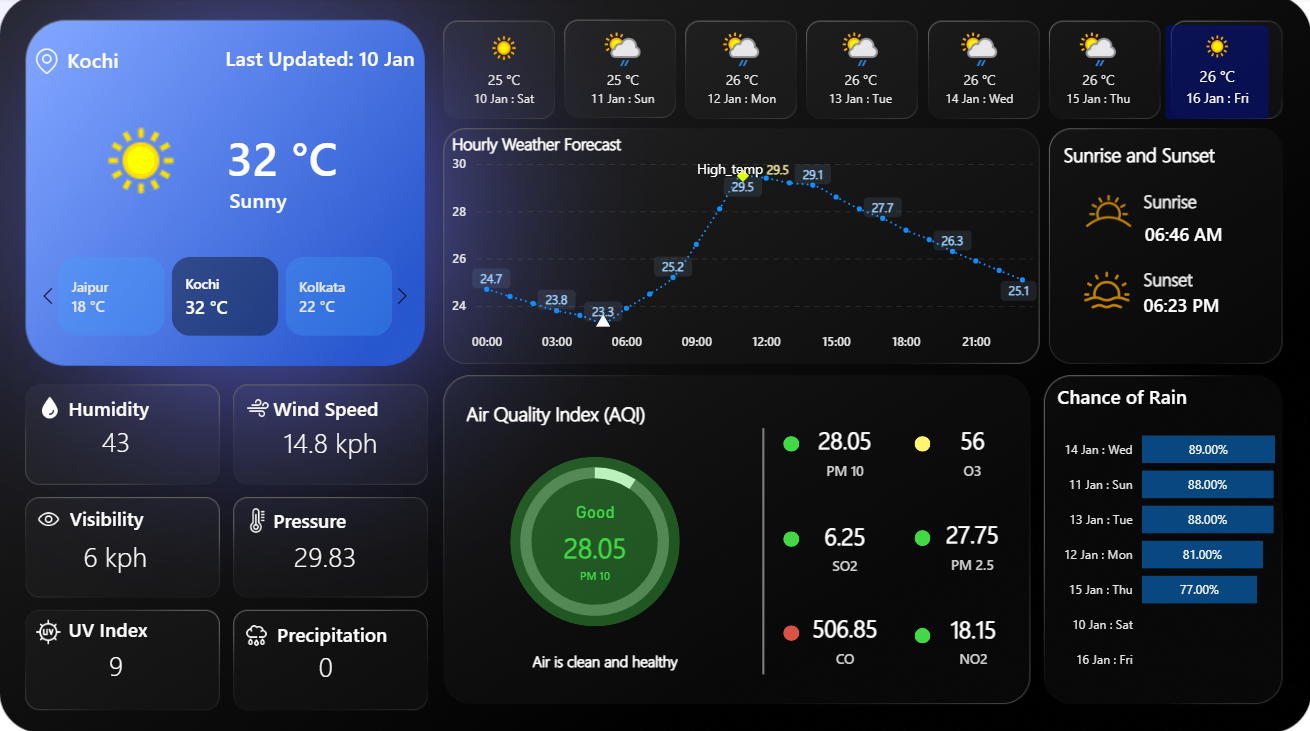

This screenshot's page, from the dashboard's own definition file:
{"tool":"powerbi","page":{"name":"Dashboard","canvas":[1280,720],"ordinal":0},"visuals":[{"type":"advancedSlicerVisual","fields":{"Values":["Locations.location.name"]},"box":[32.7,248.7,376.8,87.9],"z":0},{"type":"shape","box":[225,176.2,176.2,43.8],"z":1000},{"type":"shape","box":[222.5,100,187.5,110],"z":2000},{"type":"shape","box":[66.8,34.9,151.8,51.6],"z":3000},{"type":"image","box":[32.9,50,28,25],"z":4000},{"type":"shape","box":[221,34,219.8,50],"z":5000},{"type":"image","box":[30.8,496.9,37,24],"z":6000},{"type":"shape","box":[69.2,496.2,96.2,25.4],"z":7000},{"type":"shape","box":[67.7,388.5,96.9,25.4],"z":8000},{"type":"shape","box":[67.7,604.6,96.9,25.4],"z":9000},{"type":"shape","box":[271.5,609.2,111.5,25.4],"z":10000},{"type":"shape","box":[267.7,497.7,96.2,25.4],"z":11000},{"type":"shape","box":[267.7,387.7,121.5,25.4],"z":12000},{"type":"image","box":[34.6,389.2,29.2,22.3],"z":13000},{"type":"image","box":[237.7,389.2,30,23],"z":14000},{"type":"image","box":[236.2,498.1,32,24],"z":15000},{"type":"image","box":[31.5,606.2,33.1,25.4],"z":16000},{"type":"image","box":[235.4,610,33.1,24.6],"z":17000},{"type":"card","fields":{"Values":["Sum(Current.current.humidity)"]},"box":[32.5,405,163.8,60],"z":18000},{"type":"card","fields":{"Values":["_Measure.Current_wind_speed_kph"]},"box":[241.2,401.2,165,70],"z":19000},{"type":"card","fields":{"Values":["_Measure.Current_visibility_kph"]},"box":[31.5,513.1,164.6,70],"z":20000},{"type":"card","fields":{"Values":["Sum(Current.current.pressure_in)"]},"box":[236.2,512.5,165,70],"z":21000},{"type":"card","fields":{"Values":["Sum(Current.current.uv)"]},"box":[33.1,618.5,163.8,70],"z":22000},{"type":"card","fields":{"Values":["Sum(Current.current.precip_in)"]},"box":[237.5,618.8,163.7,70],"z":23000},{"type":"advancedSlicerVisual","fields":{"Values":["Forecast_Day.Forecast_day_name"],"Label":["Min(Forecast_Day.forecast.forecastday.day.condition.icon)"]},"box":[437.1,22.6,814,103],"z":24000},{"type":"lineChart","title":"Hourly Weather Forecast","fields":{"Category":["Forecast_Hour.forecast.forecastday.hour.time"],"Y":["_Measure.Forecast_hourly_avg_temp","_Measure.Forecast_hourly_max_temp","_Measure.Forecast_hourly_min_temp"]},"box":[437.1,131.4,580.7,223.6],"z":25000},{"type":"shape","box":[1117.1,165.7,162.9,65.7],"z":26000},{"type":"shape","box":[1117.1,242.9,162.9,65.7],"z":27000},{"type":"shape","box":[1039.3,127.9,184.3,49.3],"z":28000},{"type":"image","box":[1050,264.3,61.4,44.3],"z":29000},{"type":"image","box":[1047.1,180,70,58.6],"z":30000},{"type":"hundredPercentStackedBarChart","title":"Chance of Rain","fields":{"Y":["Sum(Forecast_Day.forecast.forecastday.day.daily_chance_of_rain)","_Measure.Left_value_Rain"],"Category":["Forecast_Day.Forecast_day_name"]},"box":[1027.5,376.8,238.7,302.7],"z":31000},{"type":"card","fields":{"Values":["Sum(Current.current.air_quality.o3)"]},"box":[895.8,400,108.9,87.9],"z":32000},{"type":"card","fields":{"Values":["Sum(Current.current.air_quality.pm10)"]},"box":[771.1,400,108.9,87.8],"z":33000},{"type":"card","fields":{"Values":["Sum(Current.current.air_quality.pm2_5)"]},"box":[895.8,491.1,108.9,87.4],"z":34000},{"type":"card","fields":{"Values":["Sum(Current.current.air_quality.so2)"]},"box":[771.1,492.2,108.9,87.8],"z":35000},{"type":"card","fields":{"Values":["Sum(Current.current.air_quality.no2)"]},"box":[896.3,582.6,108.4,88.4],"z":36000},{"type":"card","fields":{"Values":["Sum(Current.current.air_quality.co)"]},"box":[771.1,583.3,108.9,87.8],"z":37000},{"type":"shape","box":[765.3,428.9,16,15.3],"z":38000},{"type":"shape","box":[765.3,520.9,16,15.3],"z":39000},{"type":"shape","box":[765.3,612.9,16,15.3],"z":40000},{"type":"shape","box":[893.2,615.3,15.8,15.3],"z":41000},{"type":"shape","box":[893.2,520.5,15.8,15.8],"z":42000},{"type":"shape","box":[893.7,428.4,15.8,15.3],"z":43000},{"type":"shape","box":[456,380,184,50],"z":44000},{"type":"donutChart","fields":{"Y":["Sum(Current.current.air_quality.pm10)","_Measure.Left_value_PM10"]},"box":[405.7,435.7,351.4,191.4],"z":45000},{"type":"shape","box":[697.1,421.4,97.1,240],"z":46000},{"type":"shape","box":[498.6,448.6,165.7,165.7],"z":47000},{"type":"card","fields":{"Values":["Sum(Current.current.air_quality.pm10)"]},"box":[527.1,492.9,108.6,87.1],"z":48000},{"type":"shape","box":[437.4,622.6,308.4,48.4],"z":49000},{"type":"shape","box":[1118.6,204.3,138.6,52.9],"z":50000},{"type":"shape","box":[1117.1,275.7,137.1,51.4],"z":51000},{"type":"cardVisual","fields":{"Data":["Min(Current.current.condition.icon)"]},"box":[62.9,85.7,152.9,148.6],"z":52000}]}

Visuals, with their boxes in screenshot pixels (x1, y1, x2, y2), scaled from the page's 1280x720 canvas onto the 1310x731 screenshot:
advancedSlicerVisual - Locations.location.name: 33/252/419/342
shape: 230/179/411/223
shape: 228/102/420/213
shape: 68/35/224/88
image: 34/51/62/76
shape: 226/35/451/85
image: 32/504/69/529
shape: 71/504/169/530
shape: 69/394/168/420
shape: 69/614/168/640
shape: 278/619/392/644
shape: 274/505/372/531
shape: 274/394/398/419
image: 35/395/65/418
image: 243/395/274/418
image: 242/506/274/530
image: 32/615/66/641
image: 241/619/275/644
card - Sum(Current.current.humidity): 33/411/201/472
card - _Measure.Current_wind_speed_kph: 247/407/416/478
card - _Measure.Current_visibility_kph: 32/521/201/592
card - Sum(Current.current.pressure_in): 242/520/411/591
card - Sum(Current.current.uv): 34/628/202/699
card - Sum(Current.current.precip_in): 243/628/411/699
advancedSlicerVisual - Forecast_Day.Forecast_day_name x Min(Forecast_Day.forecast.forecastday.day.condition.icon): 447/23/1280/128
"Hourly Weather Forecast" lineChart: 447/133/1042/360
shape: 1143/168/1309/235
shape: 1143/247/1309/313
shape: 1064/130/1252/180
image: 1075/268/1137/313
image: 1072/183/1143/242
"Chance of Rain" hundredPercentStackedBarChart: 1052/383/1296/690
card - Sum(Current.current.air_quality.o3): 917/406/1028/495
card - Sum(Current.current.air_quality.pm10): 789/406/901/495
card - Sum(Current.current.air_quality.pm2_5): 917/499/1028/587
card - Sum(Current.current.air_quality.so2): 789/500/901/589
card - Sum(Current.current.air_quality.no2): 917/592/1028/681
card - Sum(Current.current.air_quality.co): 789/592/901/681
shape: 783/435/800/451
shape: 783/529/800/544
shape: 783/622/800/638
shape: 914/625/930/640
shape: 914/528/930/544
shape: 915/435/931/450
shape: 467/386/655/437
donutChart - Sum(Current.current.air_quality.pm10) x _Measure.Left_value_PM10: 415/442/775/637
shape: 713/428/813/672
shape: 510/455/680/624
card - Sum(Current.current.air_quality.pm10): 539/500/651/589
shape: 448/632/763/681
shape: 1145/207/1287/261
shape: 1143/280/1284/332
cardVisual - Min(Current.current.condition.icon): 64/87/221/238
